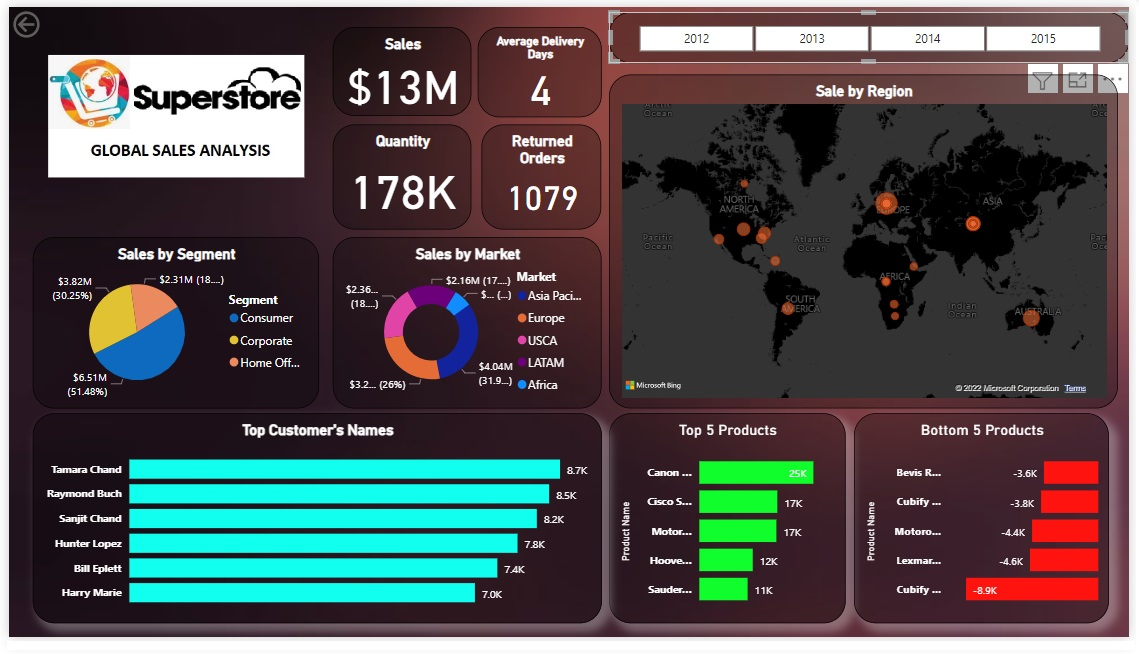

Layout of this report page (visuals, bound fields, positions):
{"tool":"powerbi","page":{"name":"Page 1","canvas":[1280,720],"ordinal":0},"visuals":[{"type":"card","title":"Sales","fields":{"Values":["Orders.Sales"]},"box":[370,22.9,158.6,101.4],"z":0},{"type":"card","title":"Quantity ","fields":{"Values":["Orders.Quantity"]},"box":[370,134.3,158.6,120],"z":1000},{"type":"card","title":"Average Delivery Days","fields":{"Values":["Orders.Delivery days"]},"box":[535.7,22.9,141.4,102.9],"z":2000},{"type":"slicer","fields":{"Values":["Orders.Year"]},"box":[685.7,5.7,594.3,58.6],"z":3000},{"type":"card","title":"Returned Orders","fields":{"Values":["Returns.Return orders"]},"box":[540,134.3,137.1,120],"z":4000},{"type":"map","title":"Sale by Region","fields":{"Size":["Orders.Sales"],"Category":["Orders.Region"]},"box":[685.7,77.1,581.4,381.4],"z":5000},{"type":"actionButton","box":[0,0,100,40],"z":6000},{"type":"barChart","title":"Top 5 Products","fields":{"Y":["Orders.Profit"],"Category":["Orders.Product Name"]},"box":[685.7,464.3,270,240],"z":7000},{"type":"barChart","title":"Bottom 5 Products","fields":{"Y":["Orders.Profit"],"Category":["Orders.Product Name"]},"box":[965.7,464.3,291.4,240],"z":8000},{"type":"pieChart","title":"Sales by Segment","fields":{"Category":["Orders.Segment"],"Y":["Orders.Sales"]},"box":[27.1,262.9,327.1,195.7],"z":9000},{"type":"donutChart","title":"Sales by Market","fields":{"Y":["Orders.Sales"],"Category":["Orders.Market"]},"box":[370,262.9,307.1,195.7],"z":10000},{"type":"clusteredBarChart","title":"Top Customer''s Names","fields":{"Category":["Orders.Customer Name"],"Y":["Orders.Profit"]},"box":[27.1,464.3,650,240],"z":11000},{"type":"image","box":[27.1,50,327.1,150],"z":12000}]}

Visuals, with their boxes in screenshot pixels (x1, y1, x2, y2), scaled from the page's 1280x720 canvas onto the 1139x654 screenshot:
"Sales" card: left=329, top=21, right=470, bottom=113
"Quantity " card: left=329, top=122, right=470, bottom=231
"Average Delivery Days" card: left=477, top=21, right=603, bottom=114
slicer - Orders.Year: left=610, top=5, right=1138, bottom=58
"Returned Orders" card: left=481, top=122, right=603, bottom=231
"Sale by Region" map: left=610, top=70, right=1128, bottom=416
actionButton: left=0, top=0, right=89, bottom=36
"Top 5 Products" barChart: left=610, top=422, right=850, bottom=640
"Bottom 5 Products" barChart: left=859, top=422, right=1119, bottom=640
"Sales by Segment" pieChart: left=24, top=239, right=315, bottom=417
"Sales by Market" donutChart: left=329, top=239, right=603, bottom=417
"Top Customer''s Names" clusteredBarChart: left=24, top=422, right=603, bottom=640
image: left=24, top=45, right=315, bottom=182
